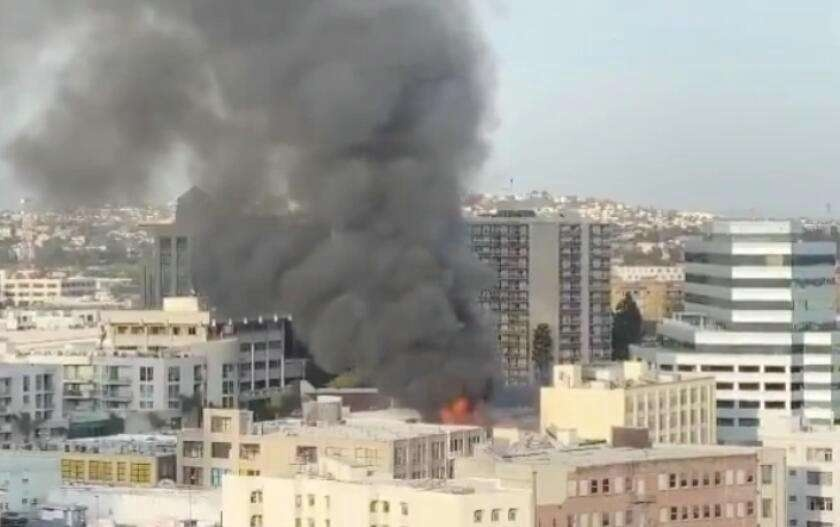fire: (435, 393, 476, 426)
